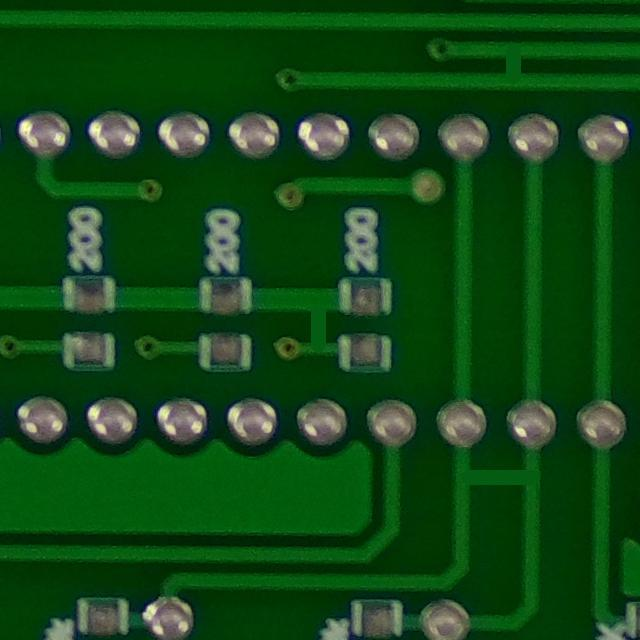short: (286, 276, 354, 364)
